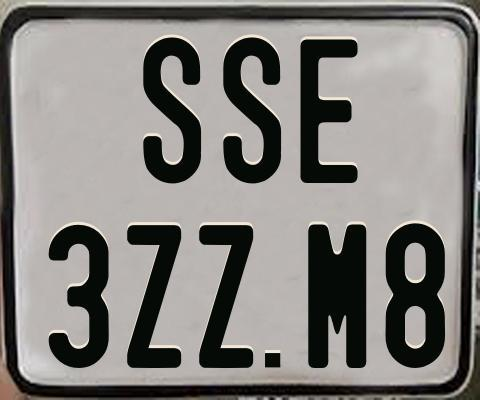3: (46, 222, 109, 366)
8: (384, 221, 448, 367)
E: (300, 38, 362, 186)
M: (305, 223, 363, 372)
S: (222, 34, 285, 186), (140, 36, 198, 188)
Z: (197, 224, 254, 373), (125, 224, 179, 369)
